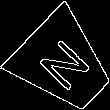N_SE: (32, 33, 96, 97)
